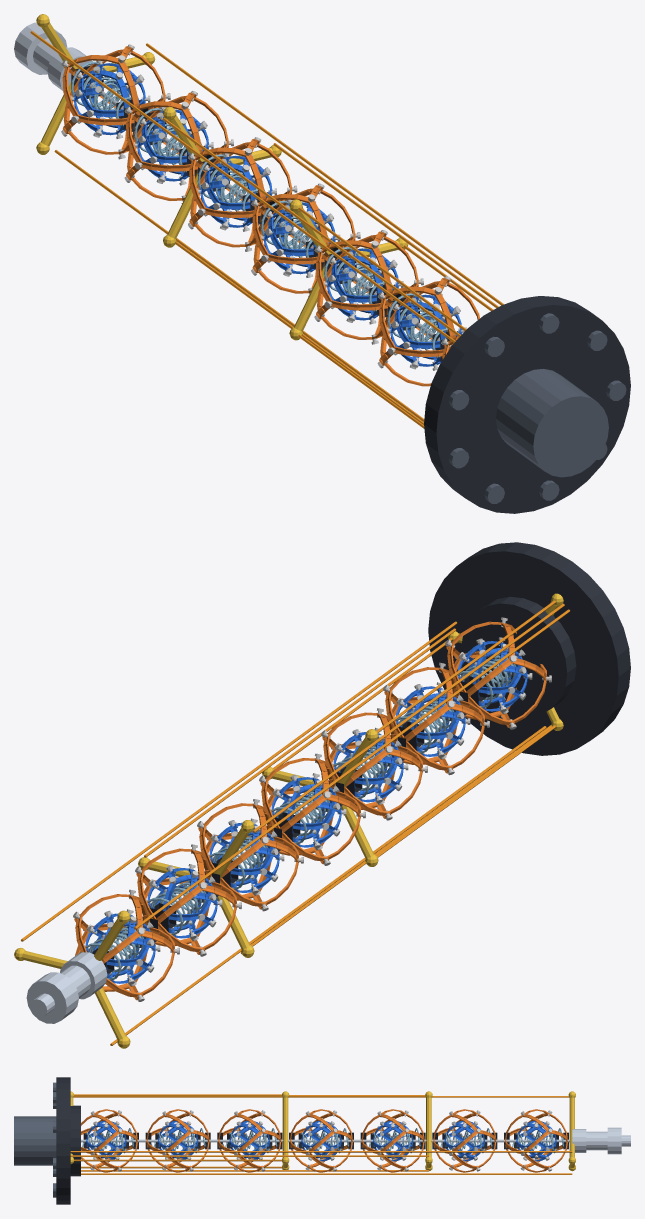
The model's file is trunc_arm_full_robot.obj.
The picture shows the model from 3 angles, top to bottom: view 1: azimuth 30°, elevation 25°; view 2: azimuth 150°, elevation 25°; view 3: azimuth 270°, elevation 25°; orthographic projection. The views are drawn at different scales.
Parts seen in each view (by area): view 1: base_mount, links_equatorial, winches, tendons, links_truss, pin_screws, spring, triad, tool, collars; view 2: base_mount, links_equatorial, tendons, links_truss, pin_screws, triad, spring, tool, collars; view 3: links_equatorial, tendons, links_truss, base_mount, winches, spring, pin_screws, collars, triad, tool, shaft.
Boxes of the visible parts, x1,y1,x2,y2 form: base_mount: (424, 296, 630, 513); links_equatorial: (62, 46, 479, 386); winches: (449, 313, 626, 503); tendons: (30, 31, 503, 428); links_truss: (74, 63, 462, 366); pin_screws: (61, 44, 466, 370); spring: (71, 61, 447, 357); triad: (36, 14, 408, 340); tool: (14, 22, 92, 90); collars: (71, 65, 456, 361); base_mount: (428, 542, 630, 755); links_equatorial: (74, 621, 546, 1000); tendons: (21, 600, 569, 1045); links_truss: (85, 641, 527, 983); pin_screws: (73, 617, 551, 1001); triad: (14, 593, 563, 1048); spring: (79, 653, 515, 980); tool: (26, 952, 107, 1023); collars: (92, 655, 513, 973); links_equatorial: (81, 1109, 567, 1172); tendons: (70, 1094, 572, 1174); links_truss: (86, 1121, 556, 1161); base_mount: (56, 1077, 80, 1204); winches: (14, 1082, 56, 1197); spring: (82, 1128, 563, 1153); pin_screws: (90, 1110, 552, 1171); collars: (83, 1132, 568, 1149); triad: (70, 1091, 575, 1171); tool: (572, 1127, 630, 1154); shaft: (81, 1139, 569, 1142).
Size of the model in its own units: 180 by 180 by 873.
